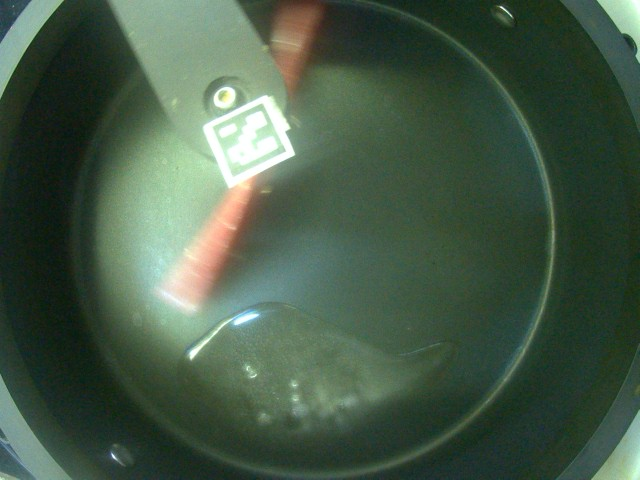stirrer: (107, 3, 296, 187)
